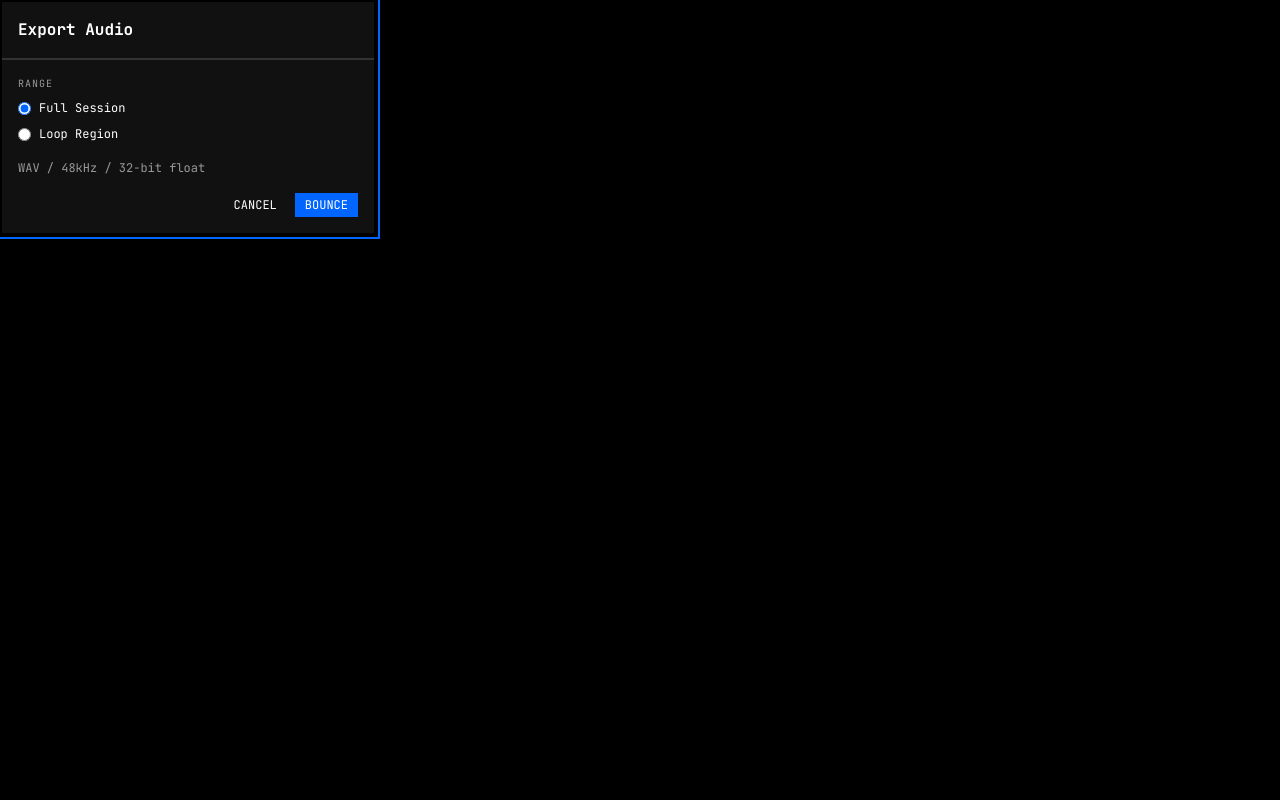
Test: BounceDialog › shows progress bar during bounce
Click the button "Bounce" at (326, 205), box left=295, top=193, right=358, bottom=217
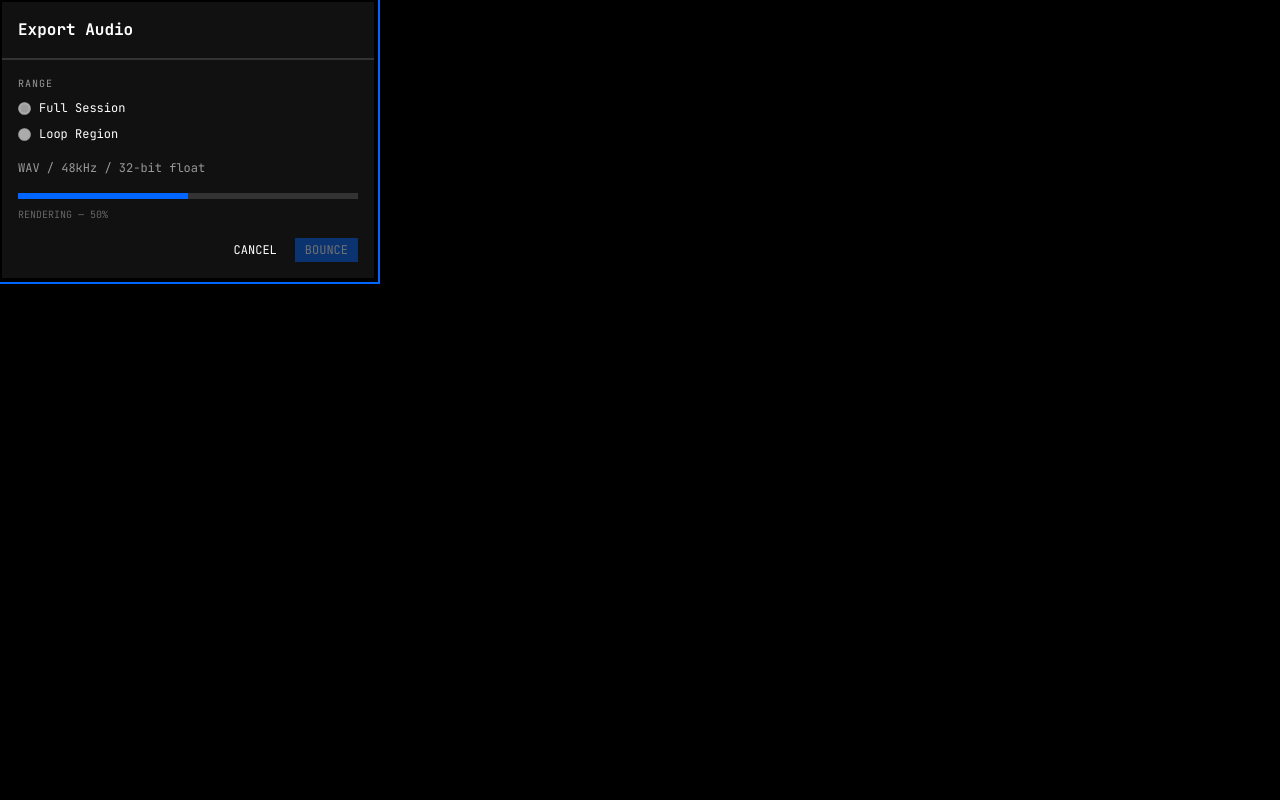
expect the progress indicator is shown: met, box left=18, top=193, right=358, bottom=199
